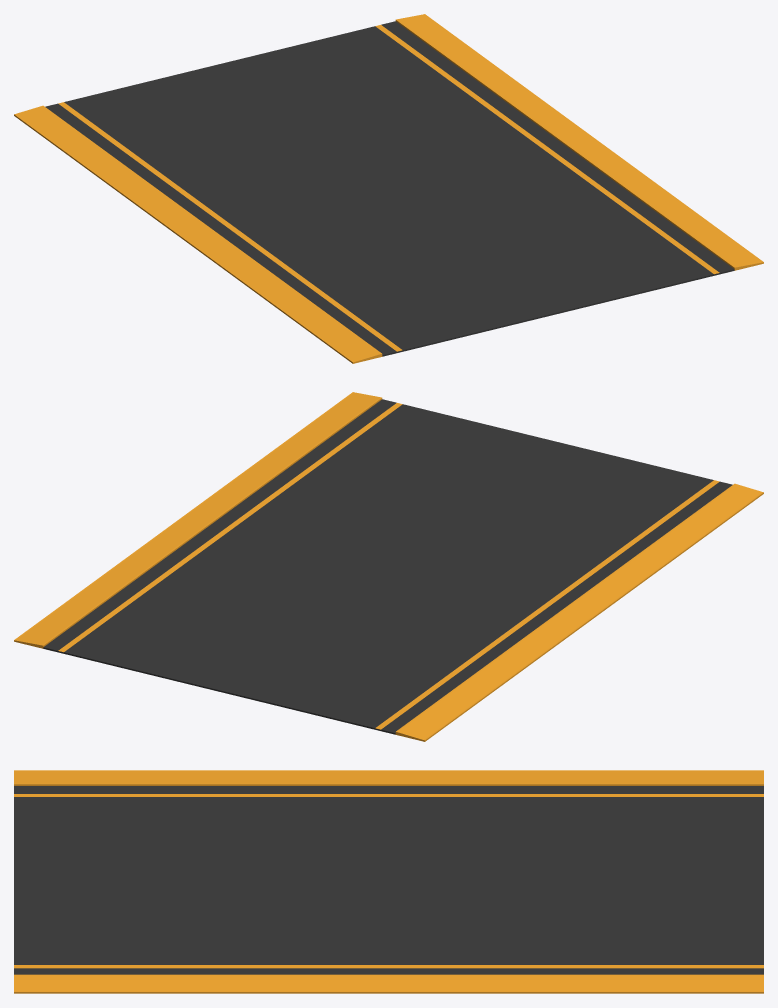
The model's file is SM_Racetrack_RunOff_Straight_20x20m.fbx.
3 views of the same model, one above another, from view 1: azimuth 30°, elevation 25°; view 2: azimuth 150°, elevation 25°; view 3: azimuth 270°, elevation 25° (orthographic). The views are drawn at different scales.
Parts seen in each view (by area): view 1: SM_Racetrack_RunOff_Straight_20x20m; view 2: SM_Racetrack_RunOff_Straight_20x20m; view 3: SM_Racetrack_RunOff_Straight_20x20m.
Boxes of the visible parts, <box> form: SM_Racetrack_RunOff_Straight_20x20m: <box>14,14,763,363</box>; SM_Racetrack_RunOff_Straight_20x20m: <box>14,392,763,741</box>; SM_Racetrack_RunOff_Straight_20x20m: <box>14,770,763,993</box>.
Bounding box in the file's own units: 14 × 0.1 × 20.
